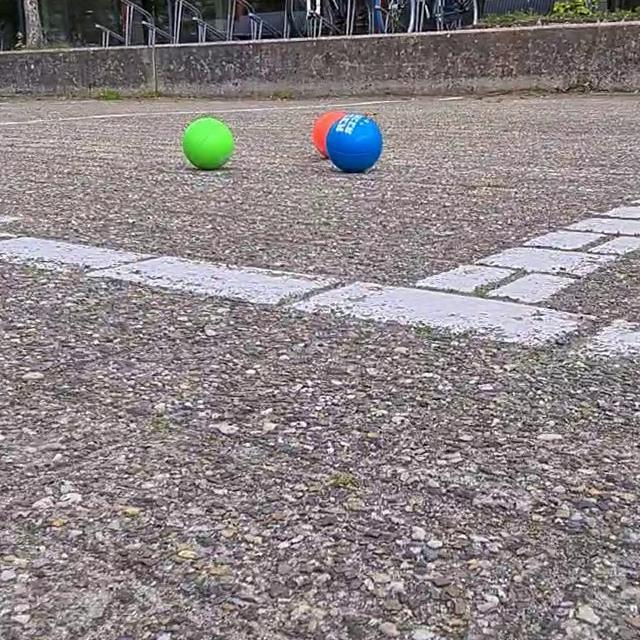ball: (326, 110, 384, 171), (180, 114, 239, 170)
